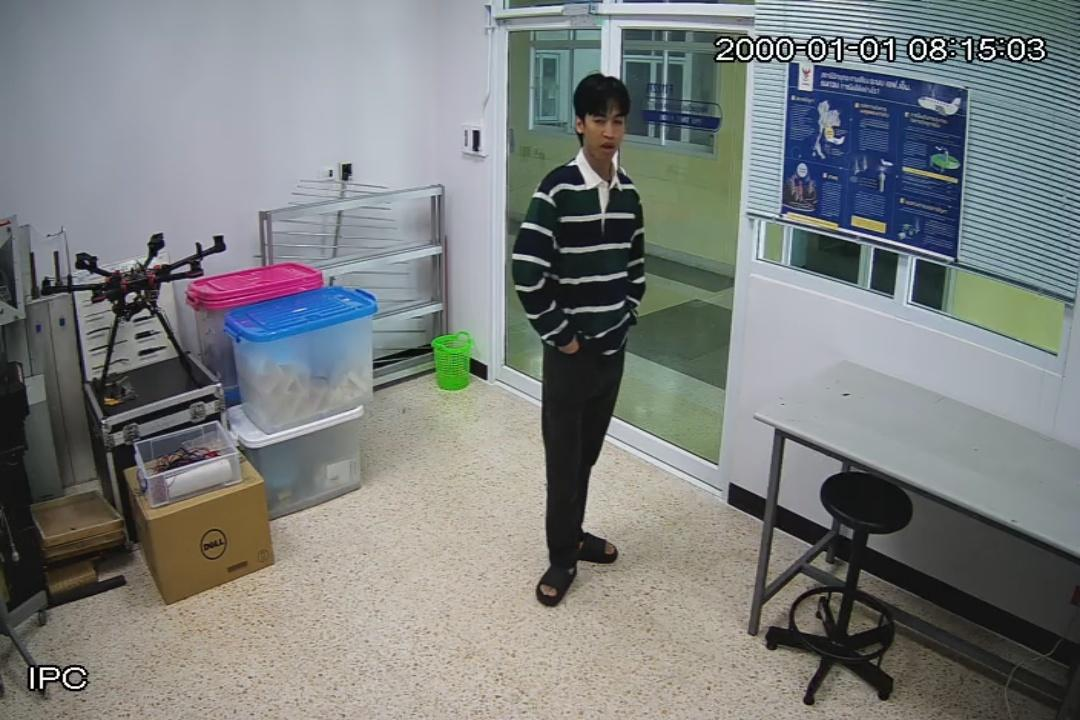normal: (513, 71, 650, 605)
